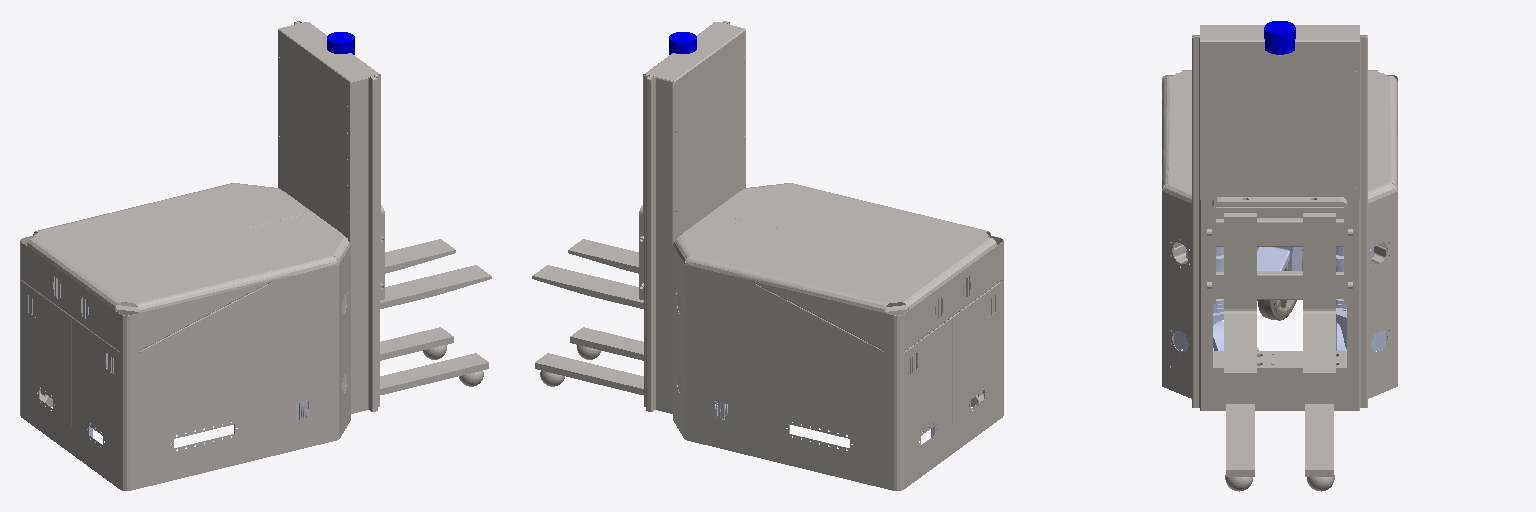
robot.urdf — WAFL2025:
<?xml version="1.0" encoding="utf-8"?>
<!-- This URDF was automatically created by SolidWorks to URDF Exporter! Originally created by [author] ([email redacted]) 
     Commit Version: 1.6.0-4-g7f85cfe  Build Version: 1.6.7995.38578
     For more information, please see http://wiki.ros.org/sw_urdf_exporter -->
<robot
  name="WAFL2025">
  
 <link name="base_footprint"/>


  <link
    name="base_link">
    <inertial>
      <origin
        xyz="0.44764 -8.6961E-05 -0.19475"
        rpy="0 0 0" />
      <mass
        value="75.51" />
      <inertia
        ixx="1.7717"
        ixy="0.0070117"
        ixz="-0.21444"
        iyy="2.3738"
        iyz="0.11565"
        izz="1.7629" />
    </inertial>
    <visual>
      <origin
        xyz="0 0 0"
        rpy="0 0 0" />
      <geometry>
        <mesh
          filename="package://WAFL2025/meshes/base_link.STL" />
      </geometry>
      <material
        name="">
        <color
          rgba="0.78039 0.76078 0.74118 1" />
      </material>
    </visual>
    <collision>
      <origin
        xyz="0 0 0"
        rpy="0 0 0" />
      <geometry>
        <mesh
          filename="package://WAFL2025/meshes/base_link.STL" />
      </geometry>
    </collision>
  </link>

  <joint name="chassis_base_footprint" type="fixed">
    <origin xyz="0 0 0.125" rpy="0 0 0"/>  
    <parent link="base_footprint"/>
    <child link="base_link"/>
  </joint>


  <link
    name="left_web">
    <inertial>
      <origin
        xyz="-0.000209 -0.0002904 0.057128"
        rpy="0 0 0" />
      <mass
        value="1.4293" />
      <inertia
        ixx="0.0041861"
        ixy="-0.00043848"
        ixz="-2.1438E-05"
        iyy="0.0038924"
        iyz="-2.9788E-05"
        izz="0.0042523" />
    </inertial>
    <visual>
      <origin
        xyz="0 0 0"
        rpy="0 0 0" />
      <geometry>
        <mesh
          filename="package://WAFL2025/meshes/left_web.STL" />
      </geometry>
      <material
        name="">
        <color
          rgba="0.79216 0.81961 0.92941 1" />
      </material>
    </visual>
    <collision>
      <origin
        xyz="0 0 0"
        rpy="0 0 0" />
      <geometry>
        <mesh
          filename="package://WAFL2025/meshes/left_web.STL" />
      </geometry>
    </collision>
  </link>
  <joint
    name="leftweb"
    type="continuous">
    <origin
      xyz="0.37473 0.16927 -0.351"
      rpy="0 0 0" />
    <parent
      link="base_link" />
    <child
      link="left_web" />
    <axis
      xyz="0 0 -1" />
    <limit
      effort="10"
      velocity="10" />
    <dynamics
      damping="0.1"
      friction="0.1" />
  </joint>
  <link
    name="left_wheel">
    <inertial>
      <origin
        xyz="6.1764E-05 -1.0018E-05 -9.5402E-03"
        rpy="0 0 0" />
      <mass
        value="1.4135" />
      <inertia
        ixx="0.0037641"
        ixy="-2.5259E-07"
        ixz="-2.7508E-08"
        iyy="0.0037626"
        iyz="4.464E-09"
        izz="0.0064566" />
    </inertial>
    <visual>
      <origin
        xyz="0 0 0"
        rpy="0 0 0" />
      <geometry>
        <mesh
          filename="package://WAFL2025/meshes/left_wheel.STL" />
      </geometry>
      <material
        name="">
        <color
          rgba="0.79216 0.81961 0.92941 1" />
      </material>
    </visual>
    <collision>
      <origin
        xyz="0 0 0"
        rpy="0 0 0" />
      <geometry>
        <mesh
          filename="package://WAFL2025/meshes/left_wheel.STL" />
      </geometry>
    </collision>
  </link>
  <joint
    name="leftwheel"
    type="continuous">
    <origin
      xyz="0 0 -0.158"
      rpy="-1.5708 0 -0.0" />
    <parent
      link="left_web" />
    <child
      link="left_wheel" />
    <axis
      xyz="0 0 -1" />
    <limit
      effort="50"
      velocity="50" />
    <dynamics
      damping="0.1"
      friction="0.1" />
  </joint>
  <link
    name="right_web">
    <inertial>
      <origin
        xyz="0.00013451 -0.00030111 0.05303"
        rpy="0 0 0" />
      <mass
        value="1.5507" />
      <inertia
        ixx="0.0041861"
        ixy="-0.00043848"
        ixz="-2.1438E-05"
        iyy="0.0038924"
        iyz="-2.9788E-05"
        izz="0.0042523" />
    </inertial>
    <visual>
      <origin
        xyz="0 0 0"
        rpy="0 0 0" />
      <geometry>
        <mesh
          filename="package://WAFL2025/meshes/right_web.STL" />
      </geometry>
      <material
        name="">
        <color
          rgba="0.79216 0.81961 0.92941 1" />
      </material>
    </visual>
    <collision>
      <origin
        xyz="0 0 0"
        rpy="0 0 0" />
      <geometry>
        <mesh
          filename="package://WAFL2025/meshes/right_web.STL" />
      </geometry>
    </collision>
  </link>
  <joint
    name="rightweb"
    type="continuous">
    <origin
      xyz="0.37493 -0.17027 -0.351"
      rpy="0 0 0" />
    <parent
      link="base_link" />
    <child
      link="right_web" />
    <axis
      xyz="0 0 -1" />
    <limit
      effort="10"
      velocity="10" />
    <dynamics
      damping="0.1"
      friction="0.1" />
  </joint>
  <link
    name="right_wheel">
    <inertial>
      <origin
        xyz="6.1764E-05 -1.0018E-05 -9.5402E-03"
        rpy="0 0 0" />
      <mass
        value="1.4135" />
      <inertia
        ixx="0.0037641"
        ixy="-2.5259E-07"
        ixz="-2.7508E-08"
        iyy="0.0037626"
        iyz="4.464E-09"
        izz="0.0064566" />
    </inertial>
    <visual>
      <origin
        xyz="0 0 0"
        rpy="0 0 0" />
      <geometry>
        <mesh
          filename="package://WAFL2025/meshes/right_wheel.STL" />
      </geometry>
      <material
        name="">
        <color
          rgba="0.79216 0.81961 0.92941 1" />
      </material>
    </visual>
    <collision>
      <origin
        xyz="0 0 0"
        rpy="0 0 0" />
      <geometry>
        <mesh
          filename="package://WAFL2025/meshes/right_wheel.STL" />
      </geometry>
    </collision>
  </link>
  <joint
    name="rightwheel"
    type="continuous">
    <origin
      xyz="0 0 -0.158"
      rpy="-1.5708 0 0.4201" />
    <parent
      link="right_web" />
    <child
      link="right_wheel" />
    <axis
      xyz="0 0 -1" />
    <limit
      effort="50"
      velocity="50" />
    <dynamics
      damping="0.1"
      friction="0.1" />
  </joint>
  <link
    name="castor">
    <inertial>
      <origin
        xyz="-0.014681 8.0115E-06 -0.033862"
        rpy="0 0 0" />
      <mass
        value="1.5287" />
      <inertia
        ixx="0.0041861"
        ixy="-0.00043848"
        ixz="-2.1438E-05"
        iyy="0.0038924"
        iyz="-2.9788E-05"
        izz="0.0042523" />
    </inertial>
    <visual>
      <origin
        xyz="0 0 0"
        rpy="0 0 0" />
      <geometry>
        <mesh
          filename="package://WAFL2025/meshes/castor.STL" />
      </geometry>
      <material
        name="">
        <color
          rgba="0.79216 0.81961 0.93333 1" />
      </material>
    </visual>
    <collision>
      <origin
        xyz="0 0 0"
        rpy="0 0 0" />
      <geometry>
        <mesh
          filename="package://WAFL2025/meshes/castor.STL" />
      </geometry>
    </collision>
  </link>
  <joint
    name="castorjoint"
    type="continuous">
    <origin
      xyz="-0.087559 0 -0.374"
      rpy="0 0 0" />
    <parent
      link="base_link" />
    <child
      link="castor" />
    <axis
      xyz="0 0 1" />
    <limit
      effort="10"
      velocity="10" />
    <dynamics
      damping="0.1"
      friction="0.1" />
  </joint>
  <link
    name="castor_wheel">
    <inertial>
      <origin
        xyz="5.8206E-05 -1.471E-05 -0.038908"
        rpy="0 0 0" />
      <mass
        value="1.5287" />
      <inertia
        ixx="0.0037641"
        ixy="-2.5259E-07"
        ixz="-2.7508E-08"
        iyy="0.0037626"
        iyz="4.464E-09"
        izz="0.0064566" />
    </inertial>
    <visual>
      <origin
        xyz="0 0 0"
        rpy="0 0 0" />
      <geometry>
        <mesh
          filename="package://WAFL2025/meshes/castor_wheel.STL" />
      </geometry>
      <material
        name="">
        <color
          rgba="0.65098 0.61961 0.58824 1" />
      </material>
    </visual>
    <collision>
      <origin
        xyz="0 0 0"
        rpy="0 0 0" />
      <geometry>
        <mesh
          filename="package://WAFL2025/meshes/castor_wheel.STL" />
      </geometry>
    </collision>
  </link>
  <joint
    name="castorwheel"
    type="continuous">
    <origin
      xyz="0.0087891 0.018594 -0.135"
      rpy="-1.5708 0 -0.44156" />
    <parent
      link="castor" />
    <child
      link="castor_wheel" />
    <axis
      xyz="0 0 1" />
    <limit
      effort="10"
      velocity="10" />
    <dynamics
      damping="0.1"
      friction="0.1" />
     
  </joint> 
   <!-- hok -->
  <link name="hokuyo_link">
   <inertial>
     <mass value="0.5"/>
     <inertia ixx="0.001" ixy="0" ixz="0"
             iyy="0.001" iyz="0"
             izz="0.001"/>
   </inertial>
   <visual>
    <geometry>
      <cylinder radius="0.04" length="0.06"/>  <!-- Adjust size based on your Hokuyo model -->
      <mesh filename="package://WAFL2025/meshes/hokuyo.dae" scale="1 1 1"/>
    </geometry>
    <material name="Blue">
      <color rgba="0 0 1 1"/>
    </material>
   </visual>
   <collision>
    <geometry>
      <cylinder radius="0.04" length="0.06"/>
    </geometry>
   </collision>
  </link> 
  <joint name="hokuyo_joint" type="fixed">
    <parent link="base_link"/>
    <child link="hokuyo_link"/>
    <origin xyz="0.59 0 0.5" rpy="0 0 0"/>  <!-- Adjust position -->
  </joint>
  <!-- Hokuyo -->
  <gazebo reference="hokuyo_link">
    <sensor type="ray" name="hokuyo_laser">
      <pose>0 0 0 0 0 0</pose>
      <visualize>
    	  true
	</visualize>
      <update_rate>10</update_rate>
      <ray>
       <scan>
         <horizontal>
          <samples>720</samples>
          <resolution>1</resolution>
          <min_angle>-1.57</min_angle>
          <max_angle>1.57</max_angle>
         </horizontal>
       </scan>
       <range>
         <min>0.1</min>
         <max>30.0</max>
         <resolution>0.01</resolution>
       </range>
      </ray>
    </sensor>
  </gazebo>
  
  <!-- Kinect-->
  
  <link name="kinect_link">
   <visual>
    <geometry>
      <mesh filename="package://WAFL2025/meshes/kinect.dae" scale="1 1 1"/>
    </geometry>
    <material name="Green">
      <color rgba="0 1 0 1"/>  <!-- Makes it blue -->
    </material>
   </visual>

   <collision>
    <geometry>
      <box size="0.073 0.276 0.072"/>
    </geometry>
   </collision>

   <inertial>
    <mass value="0.5"/>  <!-- Increase mass if Kinect is not stable -->
    <origin xyz="0 0 0" rpy="0 0 0"/>
    <inertia ixx="0.005" iyy="0.005" izz="0.005" ixy="0" ixz="0" iyz="0"/>
   </inertial>
  </link>


  <joint name="kinect_joint" type="fixed">
    <parent link="base_link"/>
    <child link="kinect_link"/>
    <origin xyz="0.65 0 0.42" rpy="0 0 0"/>
  </joint>

<!-- Kinect Plugin -->
<gazebo reference="kinect_link">
  <sensor type="depth" name="kinect_sensor">
    <update_rate>20</update_rate>
    <camera>
      <horizontal_fov>1.047198</horizontal_fov>
      <image>
        <width>640</width>
        <height>480</height>
        <format>R8G8B8</format>
      </image>
      <clip>
        <near>0.05</near>
        <far>3</far>
      </clip>
    </camera>
  </sensor>
</gazebo>
  


<link name="imu_link">
  <inertial>
    <mass value="0.01" />
    <origin xyz="0 0 0" />
    <inertia ixx="0.0001" ixy="0.0" ixz="0.0" iyy="0.0001" iyz="0.0" izz="0.0001" />
  </inertial>
</link>

<joint name="imu_joint" type="fixed">
  <parent link="base_link" />  <!-- Attach IMU to the base link -->
  <child link="imu_link" />
  <origin xyz="0 0 0.1" rpy="0 0 0" />  <!-- Adjust position as needed -->
</joint>



<transmission name="leftweb_transmission" >
 <type>transmission_interface/SimpleTransmission</type>
    <actuator name="leftweb_motor">
      <mechanicalReduction>1</mechanicalReduction>
    </actuator>
    <joint name="leftweb">
      <hardwareInterface>hardware_interface/PositionJointInterface</hardwareInterface>
    </joint>
</transmission>

<transmission name="leftwheel_transmission" >
    <type>transmission_interface/SimpleTransmission</type>
    <actuator name="leftwheel_motor">
      <mechanicalReduction>1</mechanicalReduction>
    </actuator>
    <joint name="leftwheel">
      <hardwareInterface>hardware_interface/VelocityJointInterface</hardwareInterface>
    </joint>
</transmission>

<transmission name="rightweb_transmission">
   <type>transmission_interface/SimpleTransmission</type>
    <actuator name="rightweb_motor">
      <mechanicalReduction>1</mechanicalReduction>	
    </actuator>
    <joint name="rightweb">
      <hardwareInterface>hardware_interface/PositionJointInterface</hardwareInterface>
    </joint>
</transmission>

<transmission name="rightwheel_transmission" >
    <type>transmission_interface/SimpleTransmission</type>
    <actuator name="rightwheel_motor">
      <mechanicalReduction>1</mechanicalReduction>
    </actuator>
    <joint name="rightwheel">
      <hardwareInterface>hardware_interface/VelocityJointInterface</hardwareInterface>
    </joint>
</transmission>

<transmission name="castorjoint_transmission" >
   <type>transmission_interface/SimpleTransmission</type>
    <actuator name="castorjoint_motor">
      <mechanicalReduction>1</mechanicalReduction>
    </actuator>
    <joint name="castorjoint">
      <hardwareInterface>hardware_interface/PositionJointInterface</hardwareInterface>
    </joint>
</transmission>

<transmission name="castorwheel_transmission" >
   <type>transmission_interface/SimpleTransmission</type>
    <actuator name="castorwheel_motor">
      <mechanicalReduction>1</mechanicalReduction>
    </actuator>
    <joint name="castorwheel">
      <hardwareInterface>hardware_interface/VelocityJointInterface</hardwareInterface>
    </joint>
</transmission>


<gazebo reference="base_link">
    <disableCollisions>true</disableCollisions>
  </gazebo>
  
</robot>

--- Render facts (derived) ---
The picture shows the robot from 3 angles, left to right: view 1: azimuth 30°, elevation 25°; view 2: azimuth 150°, elevation 25°; view 3: azimuth 270°, elevation 25°; orthographic projection.
Model WAFL2025 with 11 links and 10 joints (6 continuous, 4 fixed), rooted at base_footprint, posed every joint at zero.
Visible links, largest first — view 1: base_link, hokuyo_link; view 2: base_link, hokuyo_link; view 3: base_link, castor, hokuyo_link, left_web, right_web, castor_wheel.
Boxes of the visible links, x1,y1,x2,y2 form: base_link: (20,21,491,490); hokuyo_link: (327,32,354,54); base_link: (532,21,1003,490); hokuyo_link: (669,32,696,54); base_link: (1162,25,1397,491); castor: (1257,247,1302,270); hokuyo_link: (1264,21,1295,54); left_web: (1336,247,1385,355); right_web: (1174,247,1223,355); castor_wheel: (1257,262,1302,320).
Size in the robot's own frame: 1.31 by 0.607 by 1.14 metres.
Meshes: 8 distinct files referenced, 7 mesh visuals loaded (7 binary STL); not drawn: 1 (reference not matched to a file when rendering).
